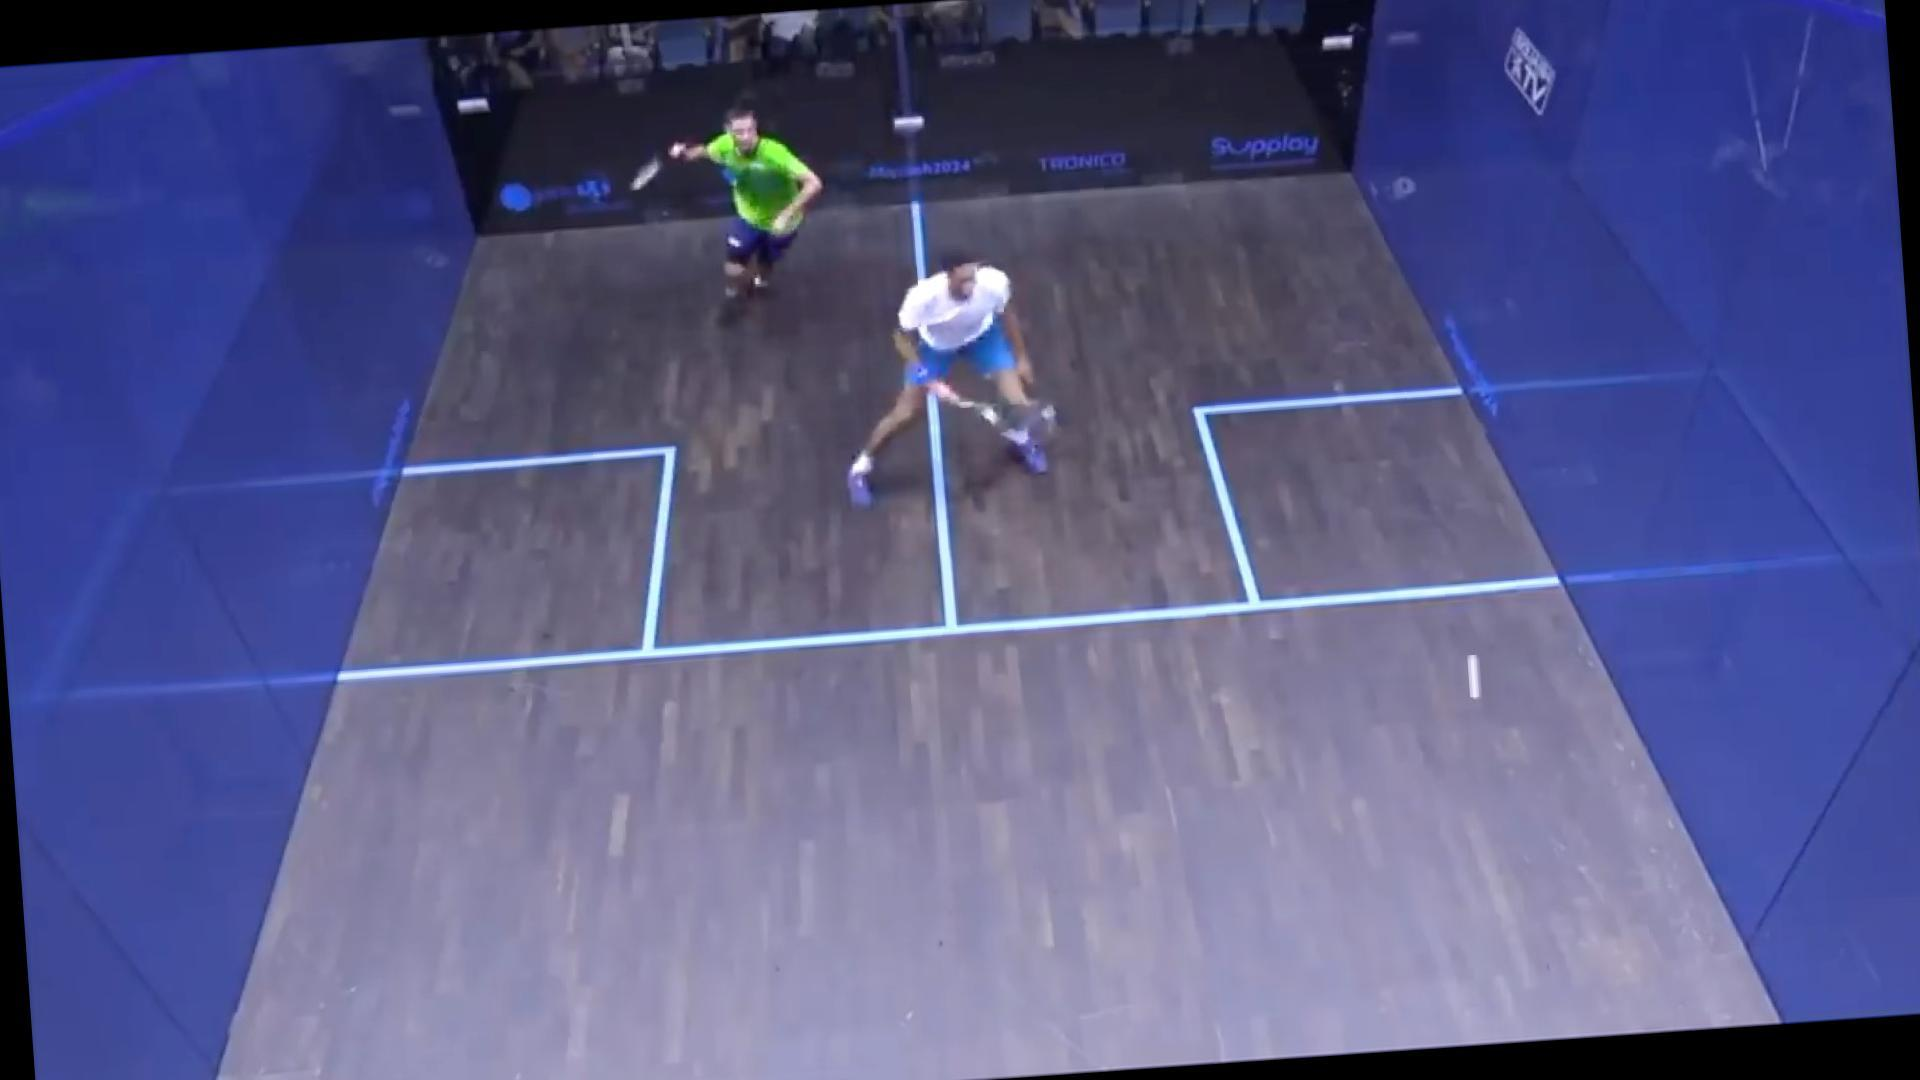Squash-Ball: (1441, 647, 1506, 709)
